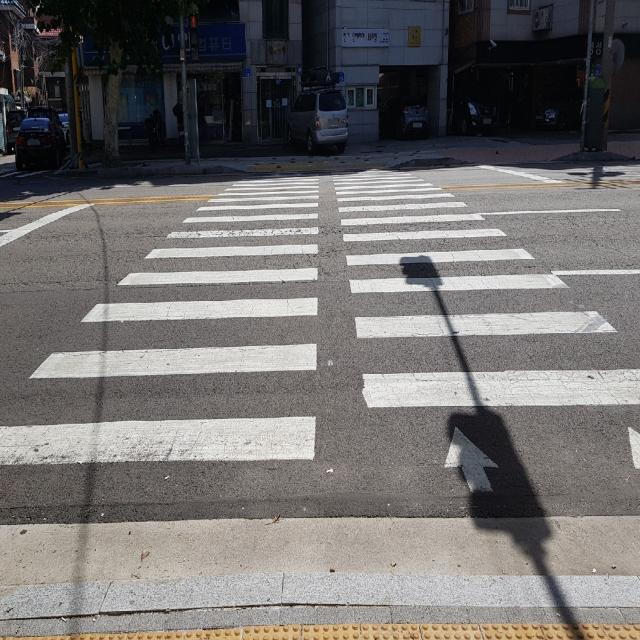빨간불: (190, 15, 198, 60)
횡단보도: (1, 177, 640, 505)
